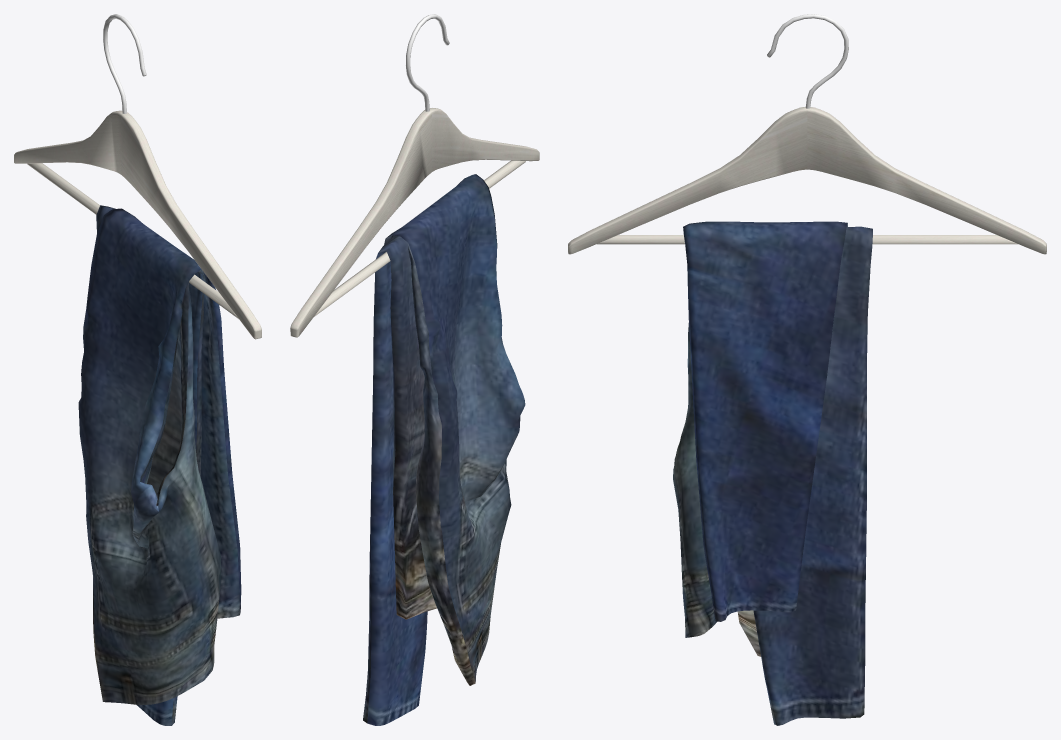
File: Pants_01.glb
The picture shows the model from 3 angles, left to right: view 1: azimuth 30°, elevation 25°; view 2: azimuth 150°, elevation 25°; view 3: azimuth 270°, elevation 25°; orthographic projection.
Parts seen in each view (by area): view 1: BP_Pants_01; view 2: BP_Pants_01; view 3: BP_Pants_01.
Boxes of the visible parts, <box> form: BP_Pants_01: <box>14,14,261,725</box>; BP_Pants_01: <box>290,14,539,725</box>; BP_Pants_01: <box>568,14,1046,725</box>.
Size of the model in its own units: 0.1204 by 0.7014 by 0.4373.
3 materials, 2 textured.
